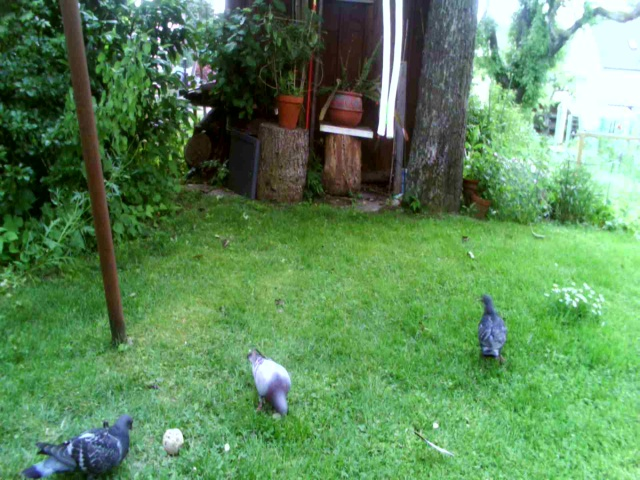Pigeon: (26, 408, 139, 480), (459, 287, 523, 377), (233, 350, 301, 423)
